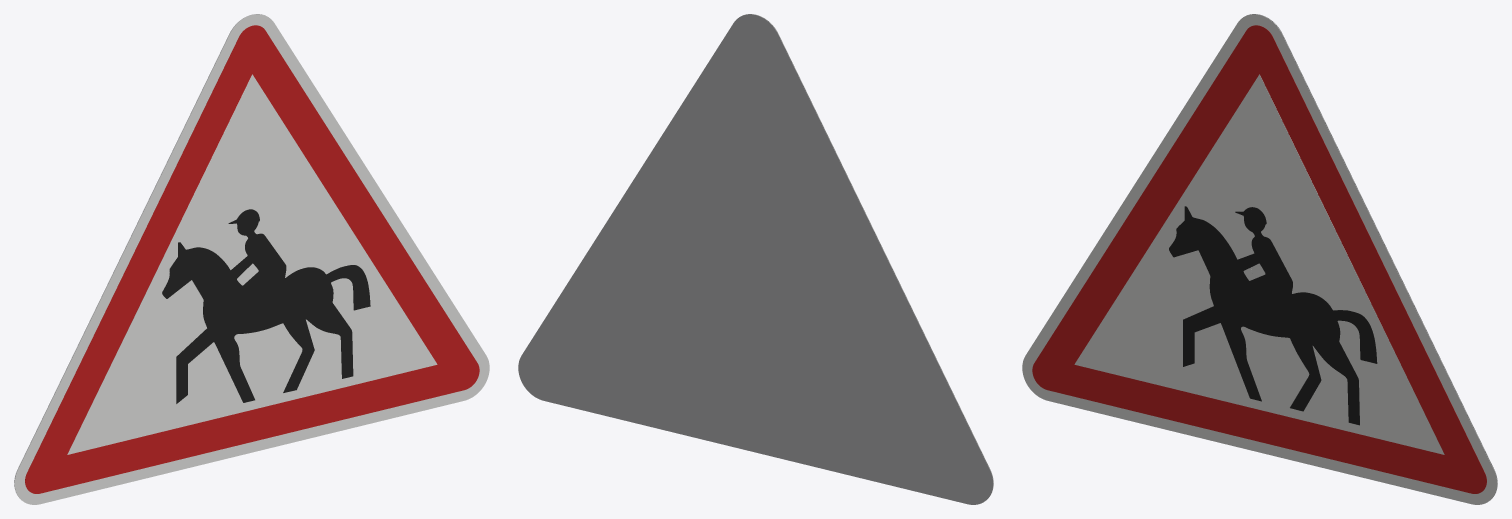
The picture shows the model from 3 angles, left to right: view 1: azimuth 30°, elevation 25°; view 2: azimuth 150°, elevation 25°; view 3: azimuth 330°, elevation 25°; orthographic projection.
Visible parts, largest first — view 1: A15c_p02, A15c_p01, A15c_p04, A15c_p00, A15c_dos; view 2: A15c_dos, A15c_p00; view 3: A15c_p02, A15c_p01, A15c_p04, A15c_p00, A15c_dos.
Part boxes in pixels (box(x1,y1,x2,y2)): A15c_p02: box(67, 74, 437, 454); A15c_p01: box(25, 25, 479, 493); A15c_p04: box(162, 209, 370, 403); A15c_p00: box(14, 14, 489, 504); A15c_dos: box(14, 14, 265, 500); A15c_dos: box(518, 14, 993, 504); A15c_p00: box(742, 14, 993, 500); A15c_p02: box(1074, 74, 1444, 454); A15c_p01: box(1032, 25, 1486, 493); A15c_p04: box(1169, 206, 1377, 425); A15c_p00: box(1022, 14, 1497, 504); A15c_dos: box(1246, 14, 1497, 500).
Bounding box in the file's own units: 1 × 0.8803 × 0.0035.
